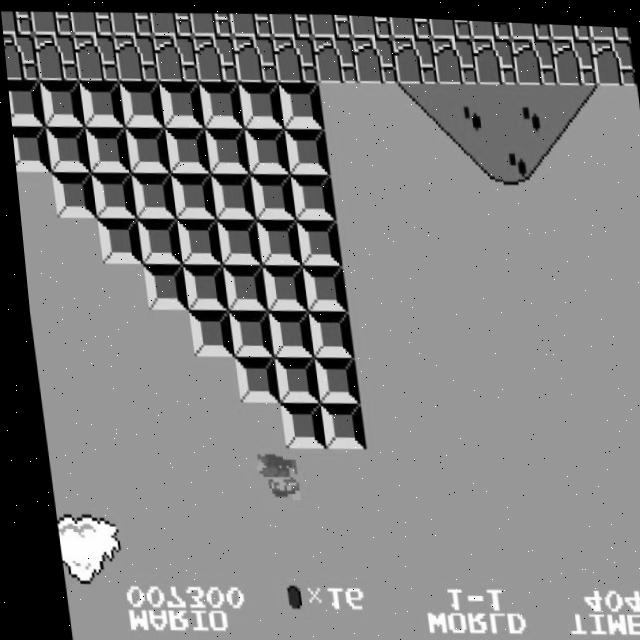11- little_mario: (242, 449, 291, 501)
17- undestructible_block: (31, 32, 78, 81), (71, 32, 118, 81), (111, 32, 158, 81), (151, 32, 198, 81), (390, 32, 437, 81), (430, 32, 477, 81), (470, 32, 517, 81), (510, 32, 557, 81), (550, 32, 597, 81), (589, 33, 636, 81), (191, 32, 237, 81), (231, 32, 277, 81), (271, 32, 317, 81), (311, 32, 357, 81), (351, 32, 397, 81), (3, 33, 37, 81), (29, 10, 73, 35), (69, 10, 113, 35), (109, 10, 153, 35), (149, 10, 193, 35), (189, 10, 233, 35), (268, 10, 312, 35), (229, 10, 272, 35), (308, 11, 352, 35), (348, 12, 392, 35), (388, 14, 432, 35), (428, 15, 471, 35), (468, 16, 511, 35), (1, 11, 33, 35), (508, 18, 551, 35), (548, 19, 591, 35), (587, 20, 630, 35)
9- hard_block: (36, 78, 83, 127), (81, 124, 128, 173), (76, 78, 123, 127), (116, 78, 163, 127), (181, 307, 228, 356), (171, 215, 218, 264), (156, 78, 203, 127), (226, 352, 273, 401), (211, 215, 258, 264), (266, 352, 313, 401), (251, 215, 298, 264), (306, 352, 353, 401), (121, 124, 168, 172), (161, 124, 208, 172), (221, 307, 268, 355), (206, 170, 253, 218), (261, 307, 308, 355), (246, 170, 293, 218), (301, 307, 348, 355), (291, 216, 338, 264), (92, 215, 138, 264), (196, 78, 242, 127), (236, 78, 282, 127), (281, 124, 327, 173), (276, 78, 322, 127), (176, 262, 223, 309), (216, 262, 263, 309), (271, 399, 318, 446), (256, 262, 303, 309), (296, 262, 343, 309), (47, 170, 93, 218), (42, 124, 88, 172), (137, 262, 183, 310), (132, 216, 178, 264), (127, 170, 173, 218), (167, 170, 213, 218), (201, 124, 247, 172), (241, 124, 287, 172), (87, 171, 133, 218), (311, 399, 357, 446), (286, 171, 332, 218), (9, 125, 48, 172), (6, 79, 43, 127)
